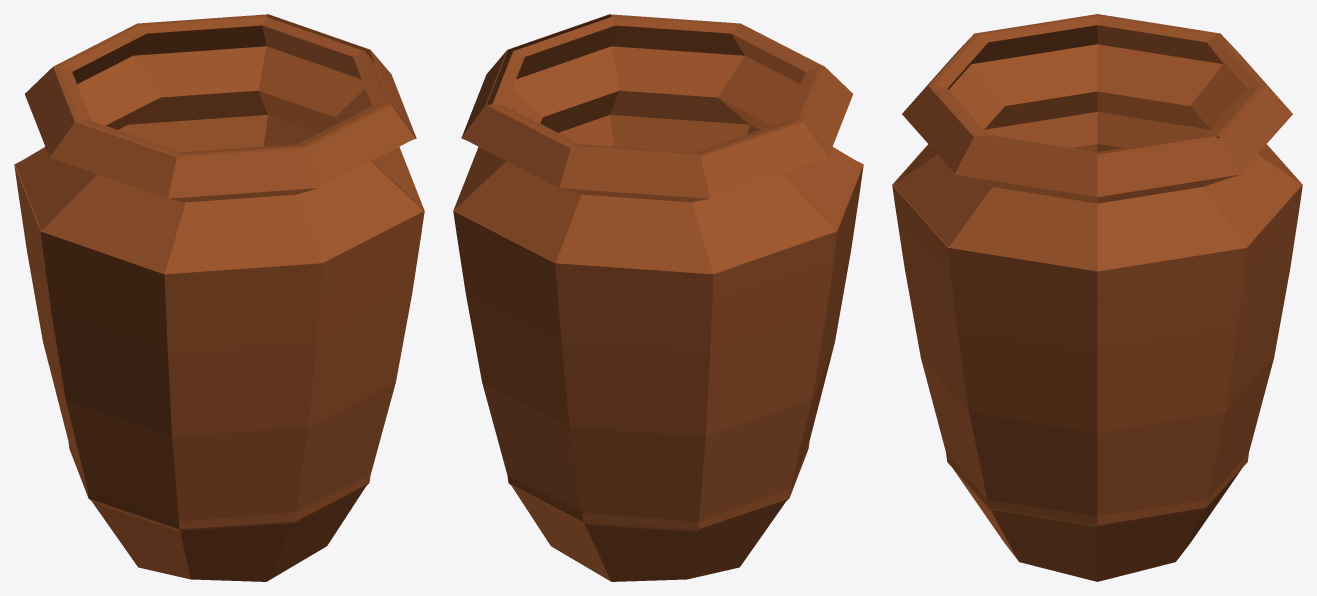
The model's file is AlhunsVaso1.fbx.
3 views of the same model, side by side, from view 1: azimuth 30°, elevation 25°; view 2: azimuth 150°, elevation 25°; view 3: azimuth 270°, elevation 25° (orthographic).
Visible parts, largest first — view 1: Cube.019; view 2: Cube.019; view 3: Cube.019.
Part boxes in pixels (x1,y1,x2,y2): Cube.019: (14,14,424,581); Cube.019: (453,14,863,581); Cube.019: (892,14,1302,581).
Bounding box in the file's own units: 72.98 × 95.42 × 72.98.
